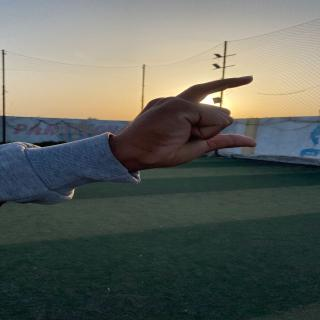DELL: (101, 76, 283, 161)
